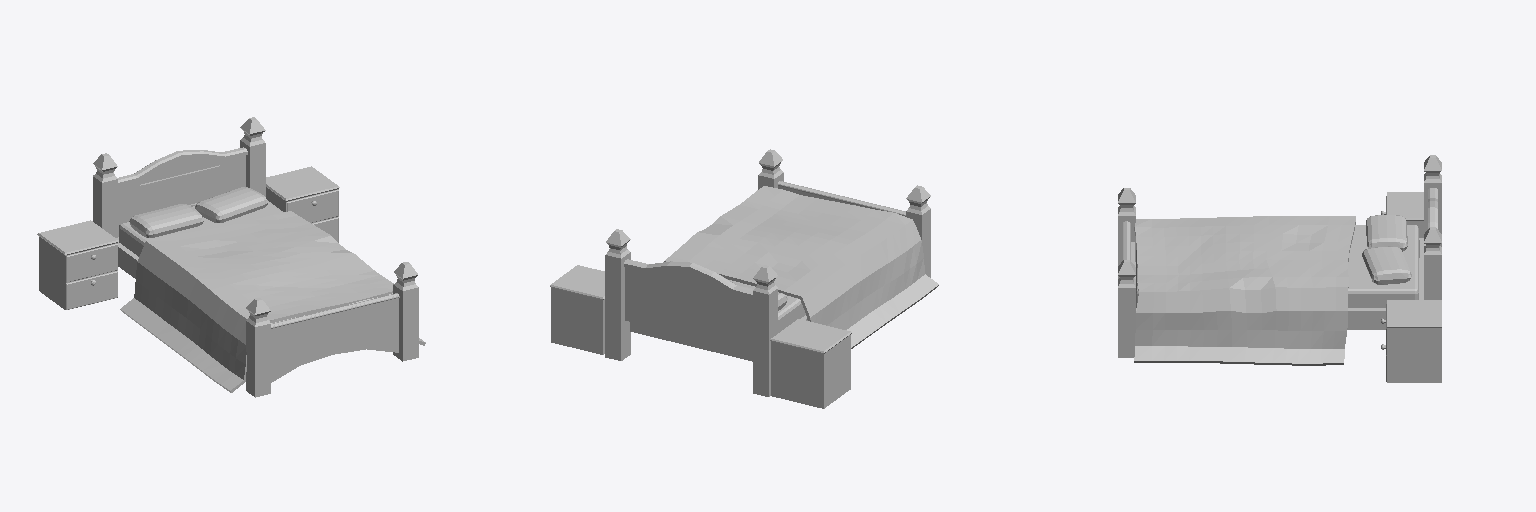
Rendered from bed.obj.
3 renders of one model, left to right at view 1: azimuth 30°, elevation 25°; view 2: azimuth 150°, elevation 25°; view 3: azimuth 270°, elevation 25°, orthographic.
Visible parts, largest first — view 1: Cube.004_Cube.007; view 2: Cube.004_Cube.007; view 3: Cube.004_Cube.007.
Part boxes in pixels (x1,y1,x2,y2): Cube.004_Cube.007: (37, 117, 425, 397); Cube.004_Cube.007: (550, 149, 938, 408); Cube.004_Cube.007: (1118, 155, 1441, 382).
Bounding box in the file's own units: 2.8 × 1.23 × 2.86.